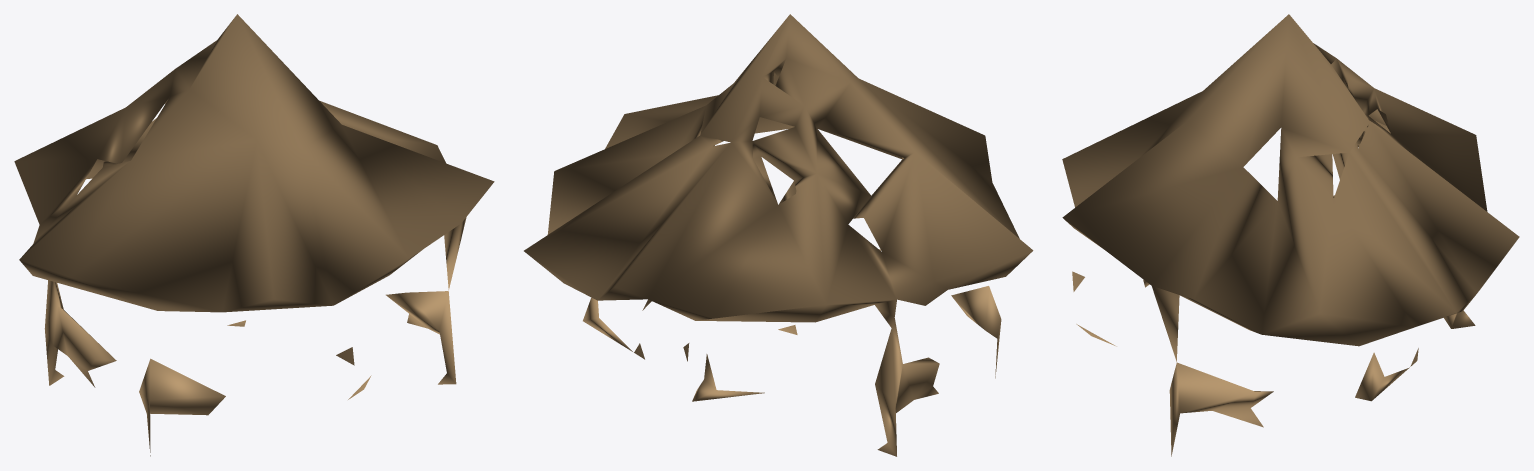
File: carpa_g_lejos.glb
The picture shows the model from 3 angles, left to right: view 1: azimuth 30°, elevation 25°; view 2: azimuth 150°, elevation 25°; view 3: azimuth 270°, elevation 25°; orthographic projection. The views are drawn at different scales.
Parts seen in each view (by area): view 1: carpa_g_lejos; view 2: carpa_g_lejos; view 3: carpa_g_lejos.
Boxes of the visible parts, <box> form: carpa_g_lejos: <box>14,14,494,456</box>; carpa_g_lejos: <box>524,14,1033,456</box>; carpa_g_lejos: <box>1062,14,1519,456</box>.
Size of the model in its own units: 5.12 by 4.05 by 4.59.
